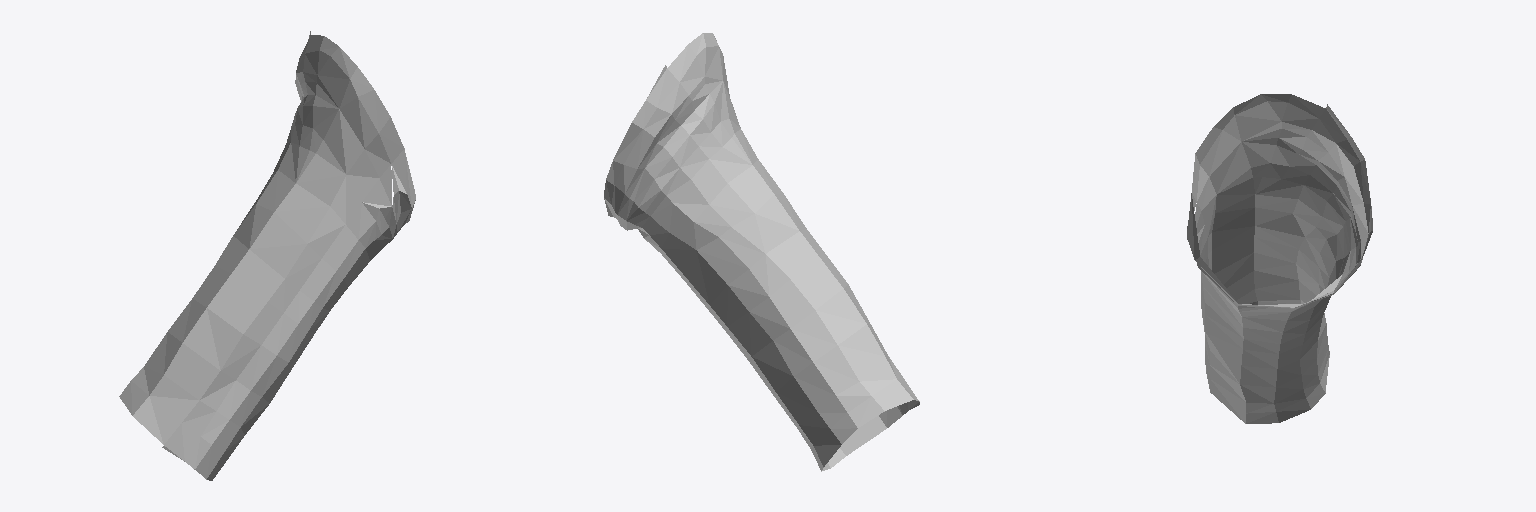
The model's file is bIzqJames.obj.
3 renders of one model, left to right at view 1: azimuth 30°, elevation 25°; view 2: azimuth 150°, elevation 25°; view 3: azimuth 270°, elevation 25°, orthographic.
Parts seen in each view (by area): view 1: L_ShoulderTwist, L_Shoulder, L_Elbow; view 2: L_ShoulderTwist, L_Shoulder, L_Elbow; view 3: L_ShoulderTwist, L_Shoulder, L_Elbow, L_Collar, Brazo_Izq_James_Mat.
Part boxes in pixels (bbox=[...]): L_ShoulderTwist: bbox=[233, 35, 406, 310]; L_Shoulder: bbox=[131, 236, 342, 458]; L_Elbow: bbox=[119, 381, 227, 480]; L_ShoulderTwist: bbox=[604, 33, 806, 306]; L_Shoulder: bbox=[706, 229, 919, 448]; L_Elbow: bbox=[811, 380, 919, 471]; L_ShoulderTwist: bbox=[1187, 94, 1372, 343]; L_Shoulder: bbox=[1201, 226, 1328, 413]; L_Elbow: bbox=[1205, 301, 1329, 423]; L_Collar: bbox=[1192, 199, 1361, 308]; Brazo_Izq_James_Mat: bbox=[1187, 104, 1349, 308].
Size of the model in its own units: 20.1 by 28.23 by 12.07.